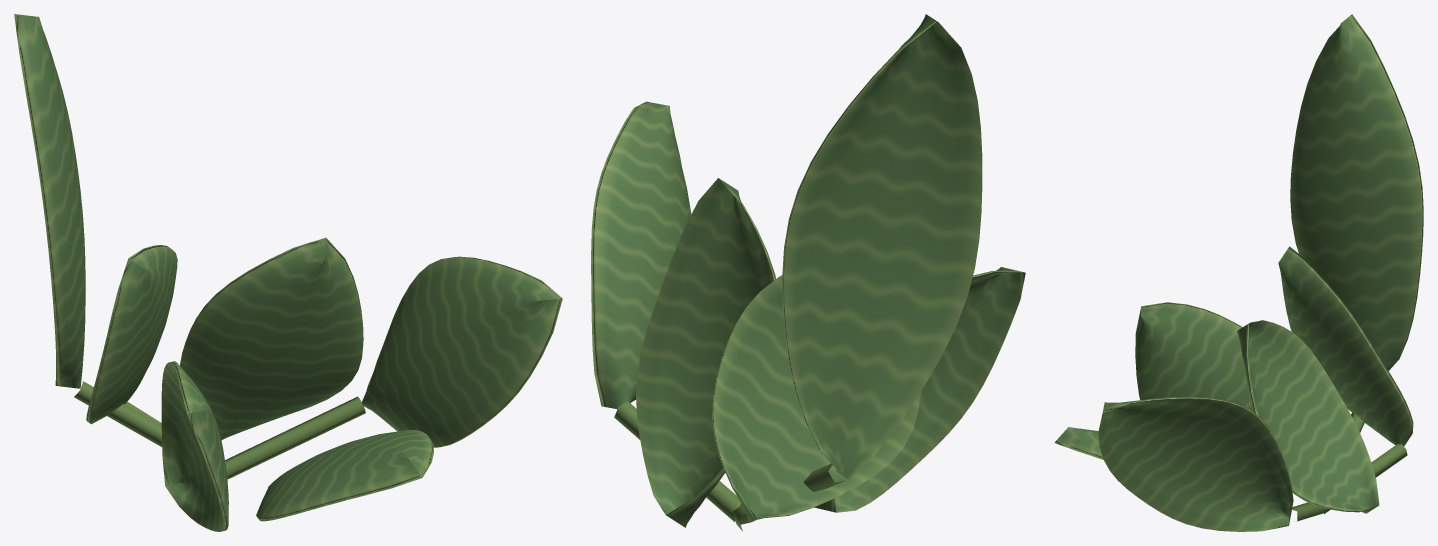
File: sansevieria-stage-2.glb
3 renders of one model, left to right at view 1: azimuth 30°, elevation 25°; view 2: azimuth 150°, elevation 25°; view 3: azimuth 270°, elevation 25°, orthographic. The views are drawn at different scales.
Visible parts, largest first — view 1: Leaf_3, Leaf_1, Leaf_5, Leaf_0, Leaf_4, Leaf_2, PlantBranches; view 2: Leaf_5, Leaf_1, Leaf_3, Leaf_4, Leaf_2, PlantBranches; view 3: Leaf_5, Leaf_3, Leaf_1, Leaf_4, Leaf_2, PlantBranches, Leaf_0.
Boxes of the visible parts, left/top/right/bottom form: Leaf_3: left=361, top=256, right=562, bottom=447; Leaf_1: left=180, top=237, right=363, bottom=440; Leaf_5: left=14, top=14, right=85, bottom=388; Leaf_0: left=256, top=430, right=433, bottom=521; Leaf_4: left=86, top=245, right=177, bottom=424; Leaf_2: left=161, top=361, right=228, bottom=531; PlantBranches: left=74, top=381, right=365, bottom=479; Leaf_5: left=782, top=14, right=982, bottom=479; Leaf_1: left=636, top=178, right=775, bottom=527; Leaf_3: left=591, top=101, right=691, bottom=409; Leaf_4: left=712, top=275, right=920, bottom=522; Leaf_2: left=814, top=267, right=1025, bottom=512; PlantBranches: left=614, top=401, right=844, bottom=531; Leaf_5: left=1290, top=14, right=1423, bottom=370; Leaf_3: left=1098, top=397, right=1293, bottom=531; Leaf_1: left=1236, top=320, right=1379, bottom=513; Leaf_4: left=1278, top=246, right=1413, bottom=446; Leaf_2: left=1135, top=302, right=1253, bottom=411; PlantBranches: left=1292, top=412, right=1407, bottom=521; Leaf_0: left=1054, top=427, right=1103, bottom=459.
Bounding box in the file's own units: 1.21 × 1.41 × 1.11.
Materials: 2 (1 with a texture image).
